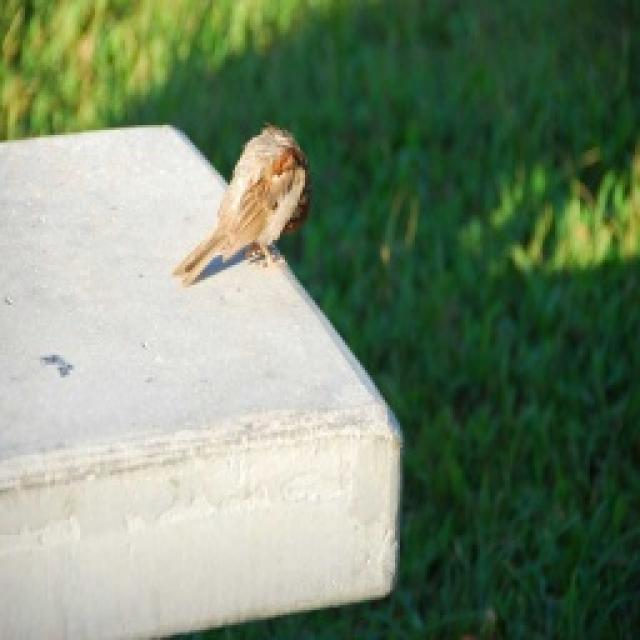sparrow: (168, 120, 312, 288)
